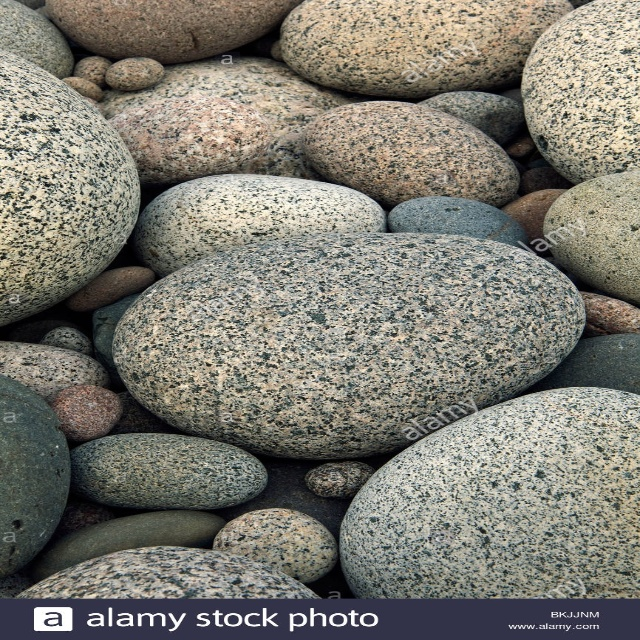obstacle: (114, 233, 585, 459), (81, 28, 425, 182), (208, 453, 392, 535)
